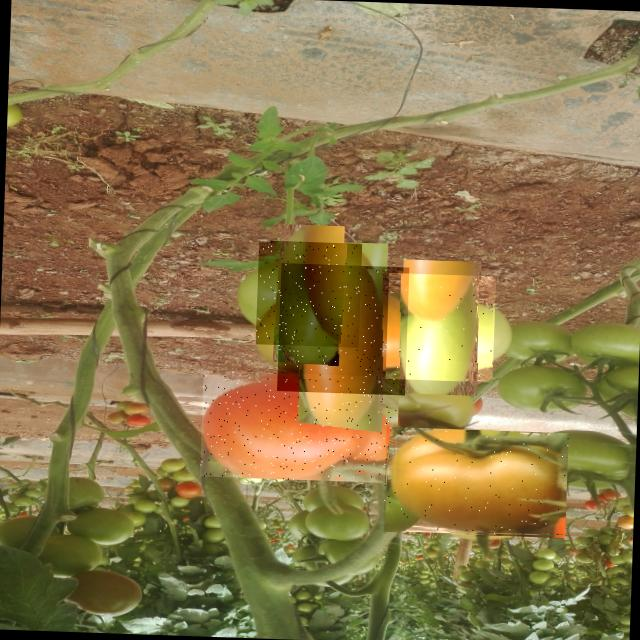Ripe Tomato: (200, 370, 400, 483)
Unripe Tomato: (382, 426, 568, 538), (276, 263, 408, 395), (385, 272, 496, 382), (255, 240, 362, 348)
